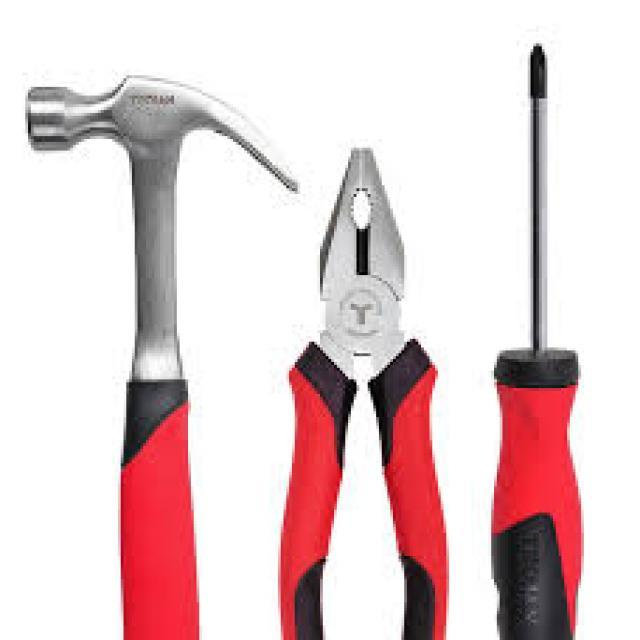hammer: (14, 63, 303, 640)
pliers: (266, 130, 454, 640)
screwdriver: (484, 32, 590, 640)
